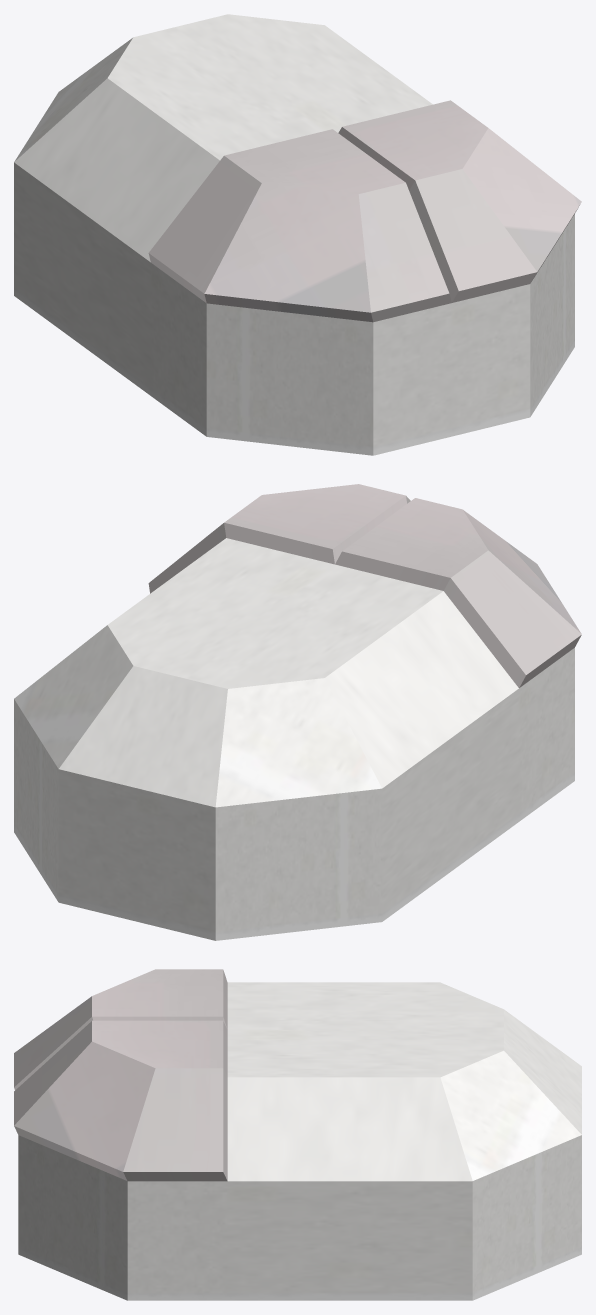
Rendered from mouse1.FBX.
3 renders of one model, top to bottom at view 1: azimuth 30°, elevation 25°; view 2: azimuth 150°, elevation 25°; view 3: azimuth 270°, elevation 25°, orthographic. The views are drawn at different scales.
Parts seen in each view (by area): view 1: Box001, Object001; view 2: Box001, Object001; view 3: Box001, Object001.
Part boxes in pixels (<box>): Box001: <box>14,14,574,455</box>; Object001: <box>148,100,581,322</box>; Box001: <box>14,538,574,940</box>; Object001: <box>148,484,581,687</box>; Box001: <box>18,982,581,1300</box>; Object001: <box>14,969,227,1181</box>.
Bounding box in the file's own units: 13.69 × 7.79 × 19.91.
Materials: 3 (3 with a texture image).
